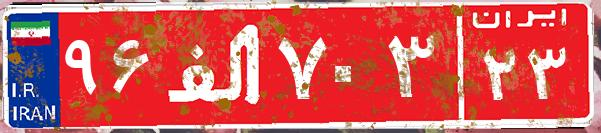0: (330, 28, 385, 110)
2: (475, 38, 525, 113)
3: (385, 28, 445, 110), (525, 38, 570, 115)
6: (110, 28, 158, 105)
7: (273, 28, 330, 110)
9: (57, 26, 110, 107)
الف: (158, 15, 273, 115)
